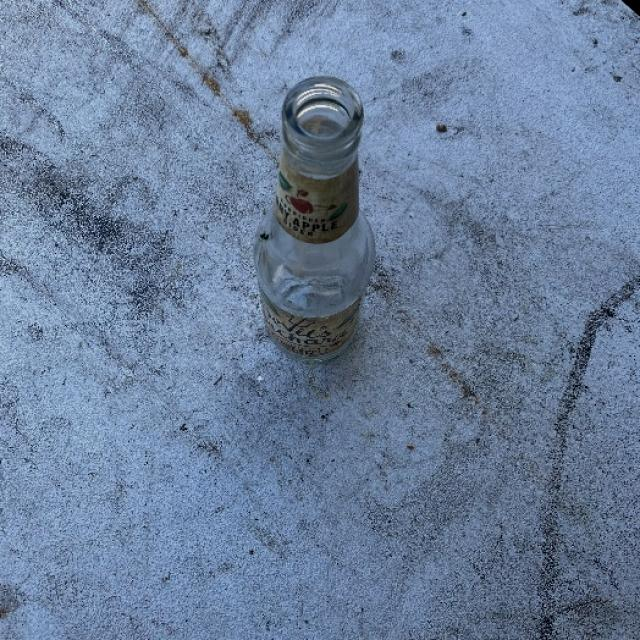inorganic: (253, 56, 375, 402)
